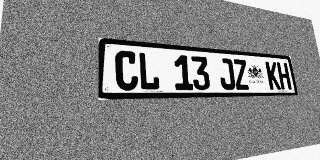1: (173, 54, 193, 90)
3: (191, 56, 210, 90)
C: (115, 50, 138, 91)
H: (276, 62, 292, 90)
J: (218, 58, 236, 90)
K: (265, 61, 281, 90)
L: (138, 52, 160, 90)
Z: (232, 59, 250, 90)
